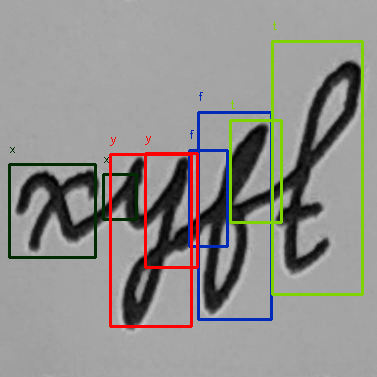f: (195, 118, 272, 317)
t: (274, 56, 364, 277)
x: (11, 163, 103, 256)
y: (113, 151, 192, 334)
